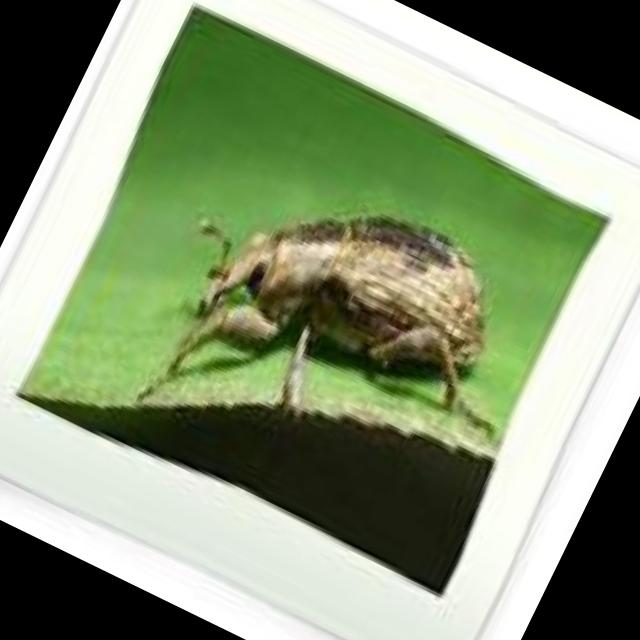rice-bug: (158, 137, 524, 467)
